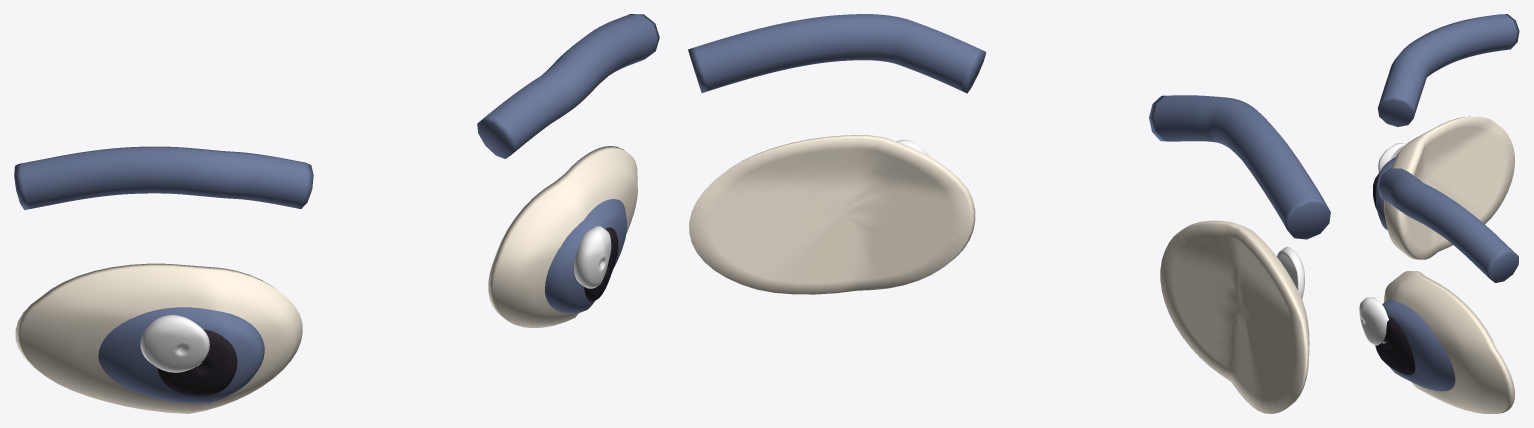
Rendered from 4HT-masculino.glb.
3 renders of one model, left to right at view 1: azimuth 30°, elevation 25°; view 2: azimuth 150°, elevation 25°; view 3: azimuth 270°, elevation 25°, orthographic. The views are drawn at different scales.
Visible parts, largest first — view 1: sclera--1, brow--1, sclera-1, brow-1, iris--1, iris-1, highlight--1, pupil--1, highlight-1, pupil-1; view 2: sclera-1, sclera--1, brow-1, brow--1, highlight--1; view 3: sclera--1, sclera-1, brow--1, brow-1, iris-1, pupil-1, highlight-1, iris--1, highlight--1.
Boxes of the visible parts, <box> form: sclera--1: <box>15,263,302,413</box>; brow--1: <box>14,146,313,209</box>; sclera-1: <box>488,146,637,327</box>; brow-1: <box>477,14,659,158</box>; iris--1: <box>98,307,264,403</box>; iris-1: <box>545,199,626,313</box>; highlight--1: <box>140,315,209,372</box>; pupil--1: <box>157,329,237,396</box>; highlight-1: <box>574,226,611,288</box>; pupil-1: <box>584,227,618,302</box>; sclera-1: <box>689,135,975,294</box>; sclera--1: <box>1160,220,1309,413</box>; brow-1: <box>688,14,986,93</box>; brow--1: <box>1149,95,1330,239</box>; highlight--1: <box>1277,246,1304,298</box>; sclera--1: <box>1384,116,1514,259</box>; sclera-1: <box>1384,271,1514,413</box>; brow--1: <box>1377,14,1519,126</box>; brow-1: <box>1377,168,1518,282</box>; iris-1: <box>1382,299,1455,391</box>; pupil-1: <box>1375,316,1415,375</box>; highlight-1: <box>1359,297,1388,345</box>; iris--1: <box>1375,157,1395,230</box>; highlight--1: <box>1378,143,1407,172</box>.
Bounding box in the file's own units: 0.0186 × 0.00746 × 0.00512.
